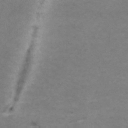finishing roll printing: (14, 25, 40, 102), (8, 106, 16, 112)
